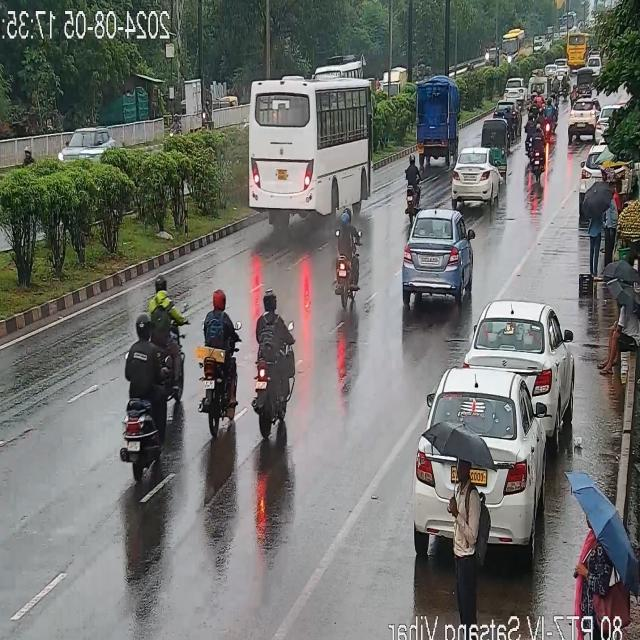2-wheelers: (256, 286, 300, 434), (197, 292, 242, 412), (124, 321, 158, 479), (148, 276, 184, 392), (334, 200, 360, 308), (528, 125, 546, 181), (406, 158, 424, 210), (526, 110, 536, 144), (168, 114, 182, 138), (546, 99, 554, 133), (552, 93, 558, 131), (538, 110, 546, 132), (552, 76, 558, 102), (531, 99, 539, 117), (536, 89, 543, 107), (561, 75, 567, 96), (550, 92, 554, 112)
auto: (479, 118, 509, 166), (578, 68, 594, 94)
bus: (247, 76, 377, 227), (415, 76, 461, 165), (564, 30, 590, 70), (500, 29, 524, 63)
car: (414, 358, 558, 554), (463, 298, 569, 404), (397, 202, 470, 300), (449, 149, 502, 209), (59, 128, 114, 164), (568, 98, 596, 141), (526, 77, 550, 109), (493, 101, 521, 122), (503, 77, 527, 99), (588, 56, 602, 72), (544, 63, 558, 76), (554, 59, 568, 70)
pedestrian: (447, 461, 493, 627), (197, 292, 242, 412), (602, 255, 640, 378), (598, 255, 640, 361), (580, 182, 620, 276), (584, 519, 613, 640)
